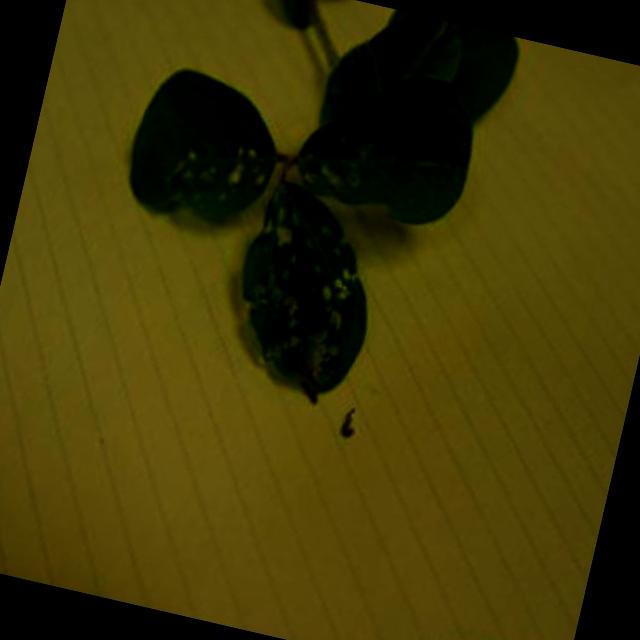Beet armyworm: (321, 393, 377, 459)
